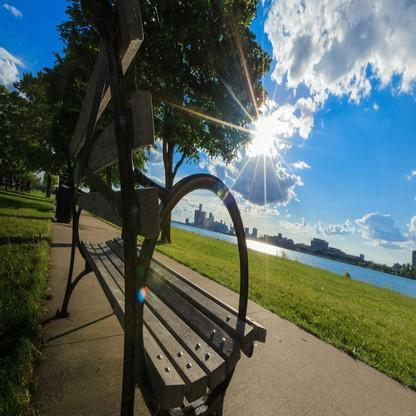obstacle: (35, 12, 270, 412)
